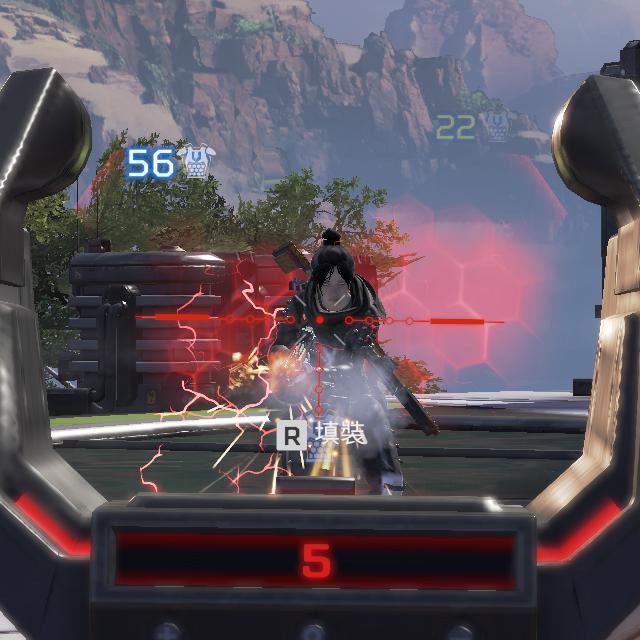avatar: (267, 225, 410, 497)
